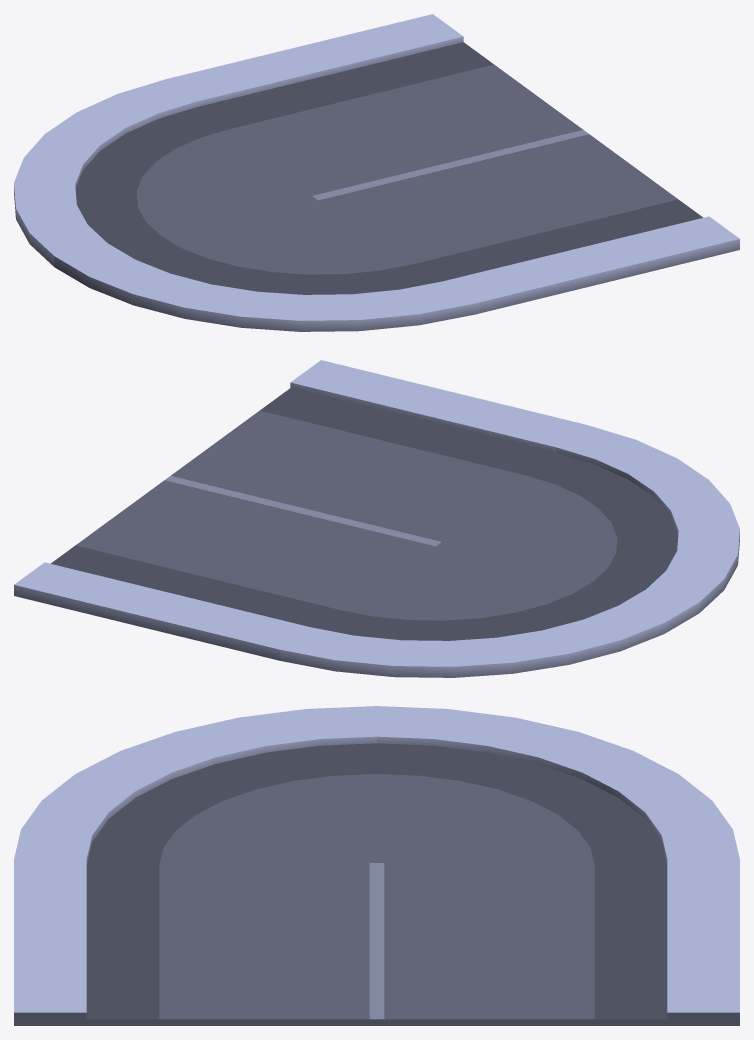
Rendered from road-end-round.glb.
3 renders of one model, top to bottom at view 1: azimuth 30°, elevation 25°; view 2: azimuth 150°, elevation 25°; view 3: azimuth 270°, elevation 25°, orthographic. The views are drawn at different scales.
Parts seen in each view (by area): view 1: road-end-round; view 2: road-end-round; view 3: road-end-round.
Boxes of the visible parts, x1,y1,x2,y2 form: road-end-round: [14, 14, 739, 331]; road-end-round: [14, 360, 739, 677]; road-end-round: [14, 706, 739, 1025].
Bounding box in the file's own units: 1 × 0.02 × 1.
Materials: 1 (1 with a texture image).
